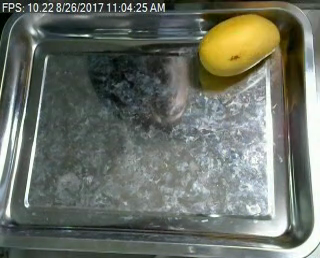Mango: (193, 12, 288, 81)
